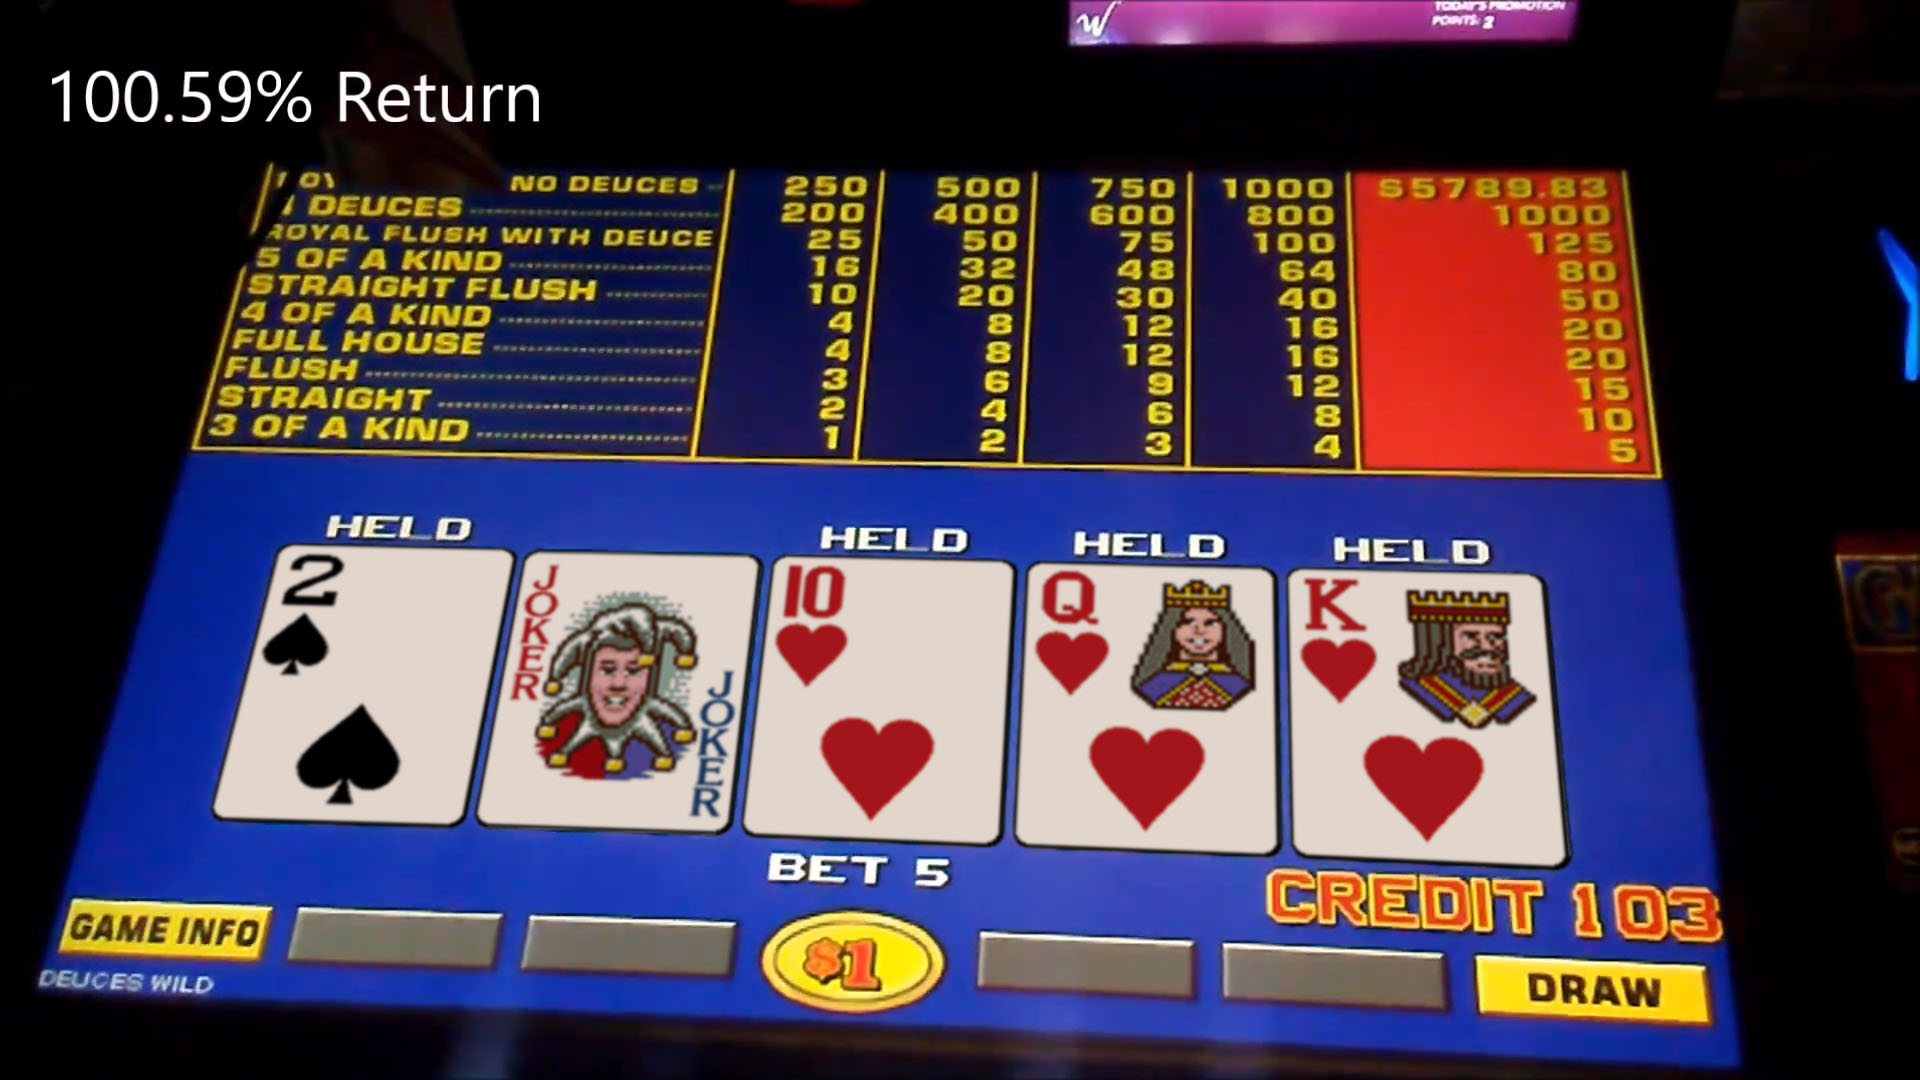HK: (1294, 575, 1553, 855)
HQ: (1029, 564, 1270, 853)
HT: (771, 558, 997, 843)
S2: (265, 549, 472, 819)
joker: (522, 553, 735, 828)
